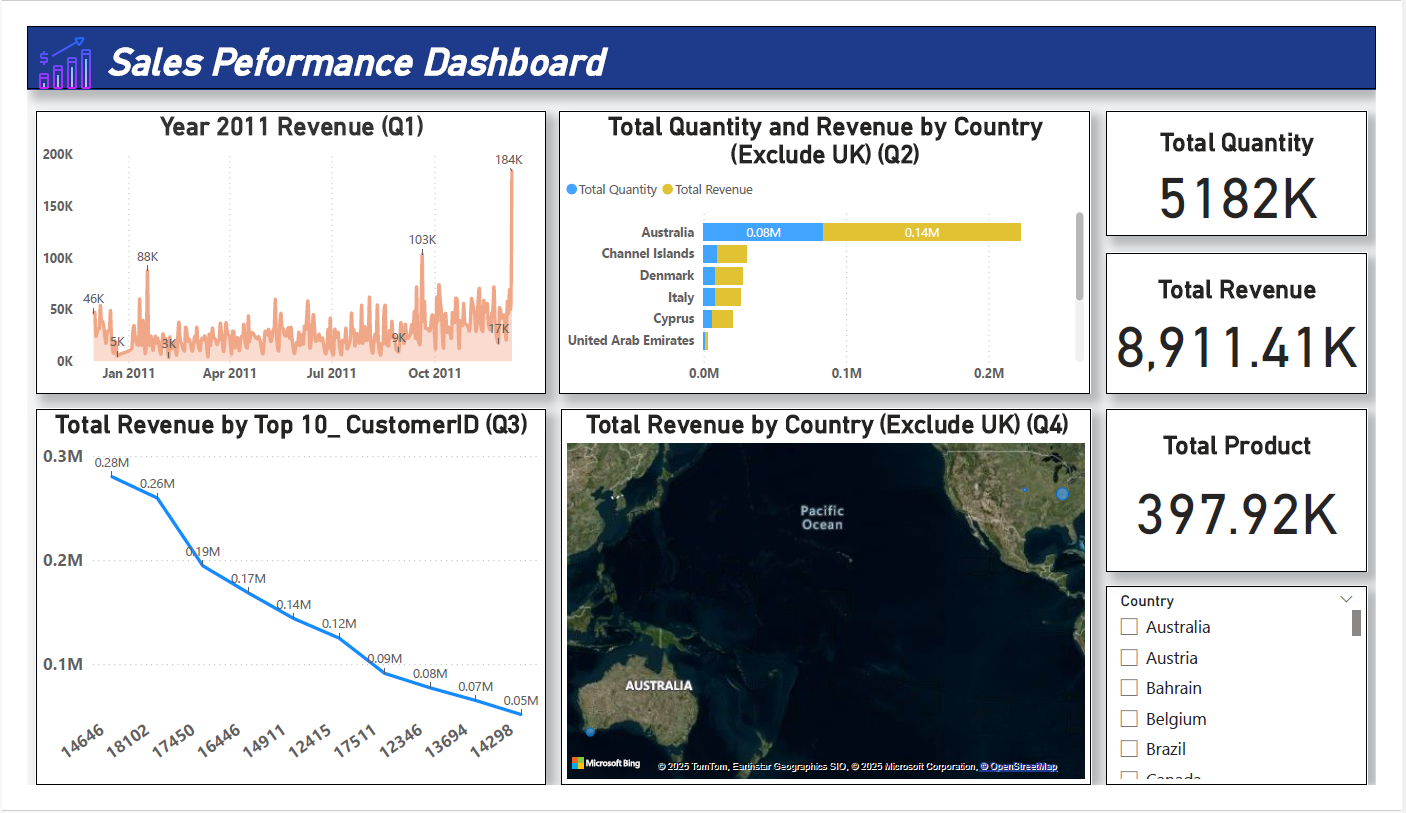

Layout of this report page (visuals, bound fields, positions):
{"tool":"powerbi","page":{"name":"Sales Dashbaord ","canvas":[1280,720],"ordinal":0},"visuals":[{"type":"lineChart","title":"Year 2011 Revenue (Q1)","fields":{"Y":["Sum(Online Retail.Revenue)"],"Category":["Online Retail.InvoiceDate.Variation.Date Hierarchy.Year"]},"box":[8.4,79.6,483.8,269],"z":0},{"type":"textbox","box":[0,0,1280,60.3],"z":1000},{"type":"barChart","title":"Total Quantity and Revenue by Country (Exclude UK) (Q2)","fields":{"Category":["Online Retail.Country"],"Y":["Sum(Online Retail.Quantity)","Sum(Online Retail.Revenue)"]},"box":[505.5,79.6,503.1,269],"z":2000},{"type":"lineChart","title":"Total Revenue by Top 10_ CustomerID (Q3)","fields":{"Y":["Sum(Table 2.Total Revenue)"],"Category":["Table 2.CustomerID"]},"box":[8.4,363.1,483.8,357.1],"z":3000},{"type":"map","title":"Total Revenue by Country (Exclude UK) (Q4)","fields":{"Category":["Table_new.Country"],"Size":["Sum(Table_new.Total Revenue)"]},"box":[506.7,363.1,503.1,357.1],"z":4000},{"type":"card","title":"Total Quantity","fields":{"Values":["Sum(Online Retail.Quantity)"]},"box":[1024.3,79.6,247.3,119.4],"z":5000},{"type":"card","title":"Total Revenue","fields":{"Values":["Sum(Online Retail.Revenue)"]},"box":[1024.3,214.7,247.3,133.9],"z":6000},{"type":"slicer","fields":{"Values":["Online Retail.Country"]},"box":[1024.3,530.8,247.3,189.4],"z":7000},{"type":"textbox","title":"Sales Peformance Dashboard","box":[71.2,12.1,489.8,48.3],"z":8000},{"type":"image","box":[0,0,71.2,70],"z":9000},{"type":"card","title":"Total Product","fields":{"Values":["CountNonNull(Online Retail.Description)"]},"box":[1024.3,363.1,247.3,154.4],"z":10000}]}

Visuals, with their boxes in screenshot pixels (x1, y1, x2, y2), scaled from the page's 1280x720 canvas onto the 1406x813 screenshot:
"Year 2011 Revenue (Q1)" lineChart: <box>9,90,541,394</box>
textbox: <box>0,0,1405,68</box>
"Total Quantity and Revenue by Country (Exclude UK) (Q2)" barChart: <box>555,90,1108,394</box>
"Total Revenue by Top 10_ CustomerID (Q3)" lineChart: <box>9,410,541,812</box>
"Total Revenue by Country (Exclude UK) (Q4)" map: <box>557,410,1109,812</box>
"Total Quantity" card: <box>1125,90,1397,225</box>
"Total Revenue" card: <box>1125,242,1397,394</box>
slicer - Online Retail.Country: <box>1125,599,1397,812</box>
"Sales Peformance Dashboard" textbox: <box>78,14,616,68</box>
image: <box>0,0,78,79</box>
"Total Product" card: <box>1125,410,1397,584</box>
